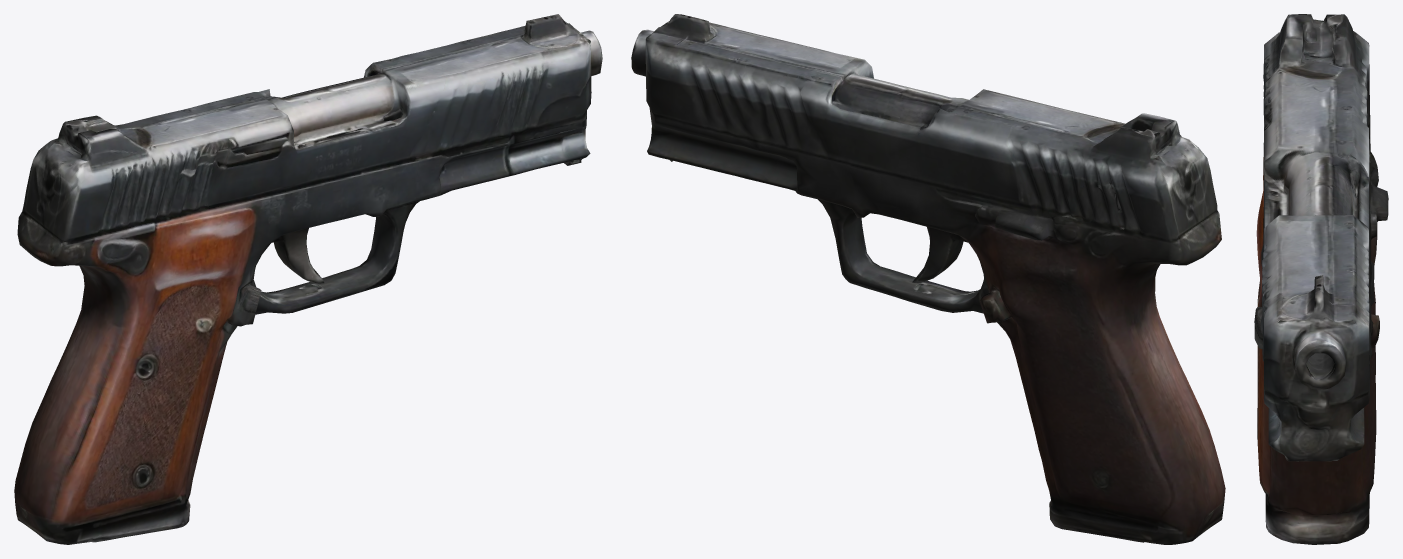
The model's file is pistol.glb.
3 views of the same model, side by side, from view 1: azimuth 30°, elevation 25°; view 2: azimuth 150°, elevation 25°; view 3: azimuth 270°, elevation 25° (orthographic). The views are drawn at different scales.
Visible parts, largest first — view 1: Mesh1; view 2: Mesh1; view 3: Mesh1.
Boxes of the visible parts, x1,y1,x2,y2 form: Mesh1: (14,14,602,544); Mesh1: (631,14,1225,544); Mesh1: (1254,14,1388,544).
Bounding box in the file's own units: 2 × 1.35 × 0.3494.
1 material, 1 textured.
